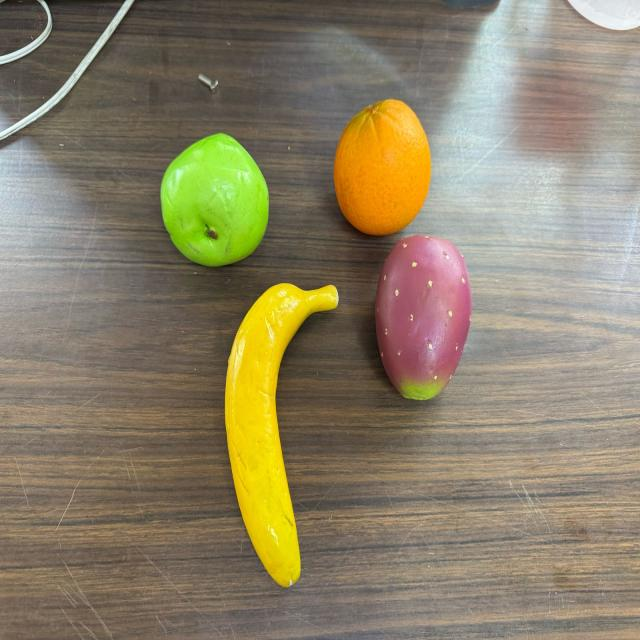banana: (225, 282, 339, 588)
orange: (332, 97, 432, 237)
pear: (158, 132, 270, 267)
tuna: (374, 236, 472, 401)
